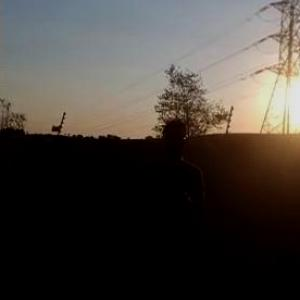follow: (133, 115, 210, 299)
